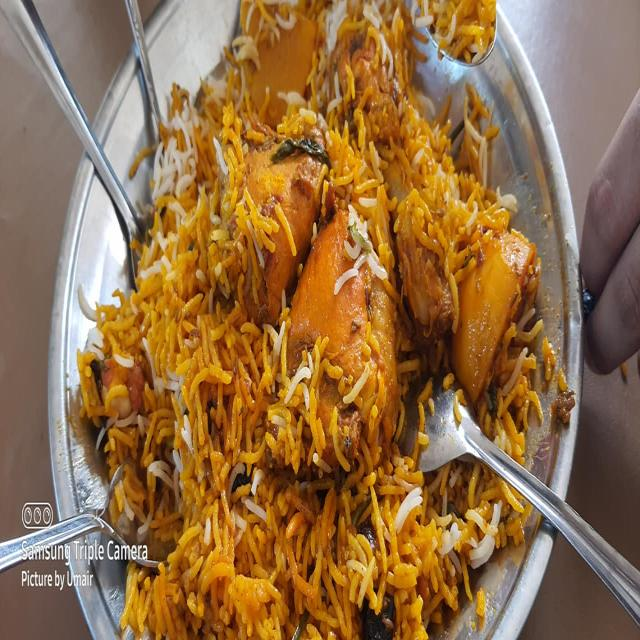Biryani: (125, 26, 516, 640)
